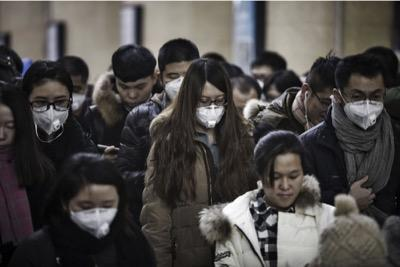with_mask: (69, 197, 120, 241), (341, 85, 383, 129), (29, 93, 69, 135), (193, 91, 226, 128), (162, 69, 188, 100), (69, 82, 88, 112)
without_mask: (261, 167, 304, 208), (115, 78, 153, 107), (304, 94, 333, 125), (0, 116, 16, 156)
